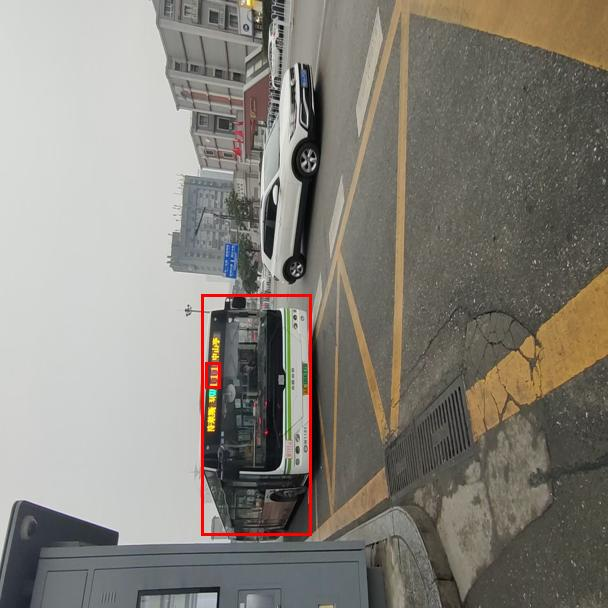bus: (201, 294, 311, 535)
screen: (205, 362, 220, 388)
